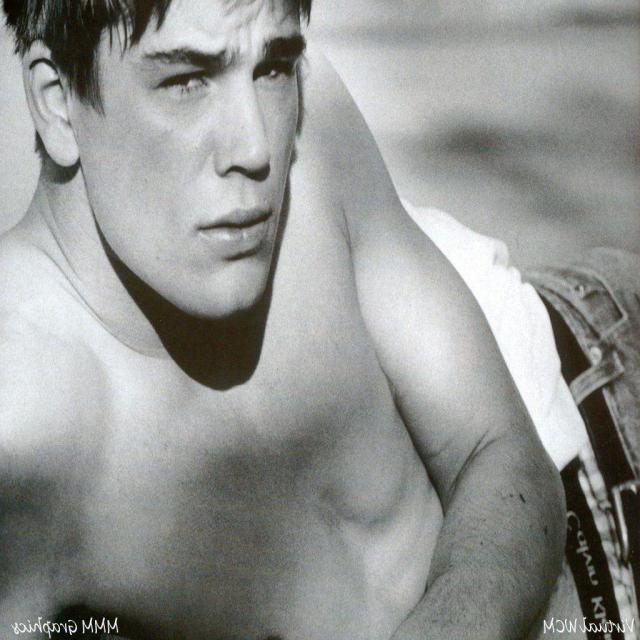no-earmuff: (18, 23, 88, 175)
